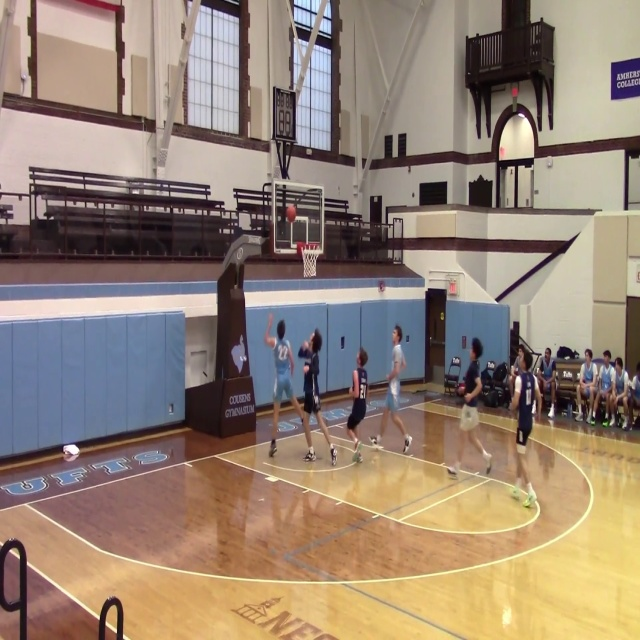Basketball: (63, 444, 79, 457), (286, 206, 296, 223), (457, 384, 466, 395), (369, 435, 377, 444)
